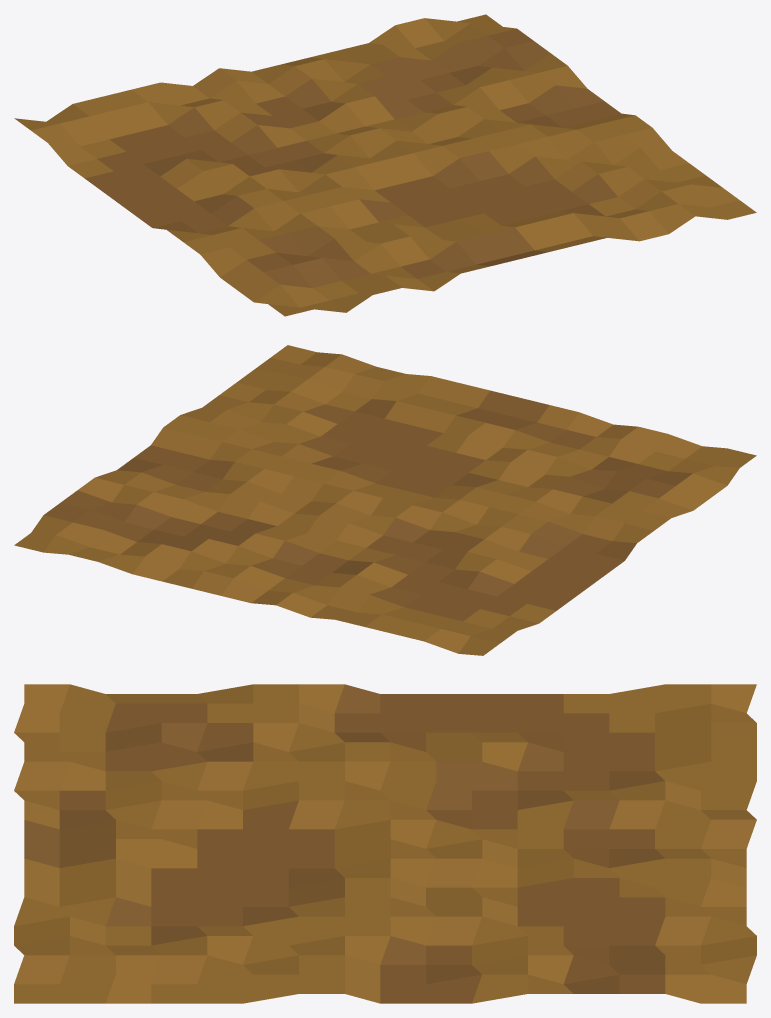
The model's file is ground.glb.
The picture shows the model from 3 angles, top to bottom: view 1: azimuth 30°, elevation 25°; view 2: azimuth 150°, elevation 25°; view 3: azimuth 270°, elevation 25°; orthographic projection. The views are drawn at different scales.
Parts seen in each view (by area): view 1: Plane; view 2: Plane; view 3: Plane.
Part boxes in pixels (x1,y1,x2,y2): Plane: [14, 14, 756, 316]; Plane: [14, 345, 756, 655]; Plane: [14, 684, 756, 1003].
Size of the model in its own units: 2 by 0.0311 by 2.03.
